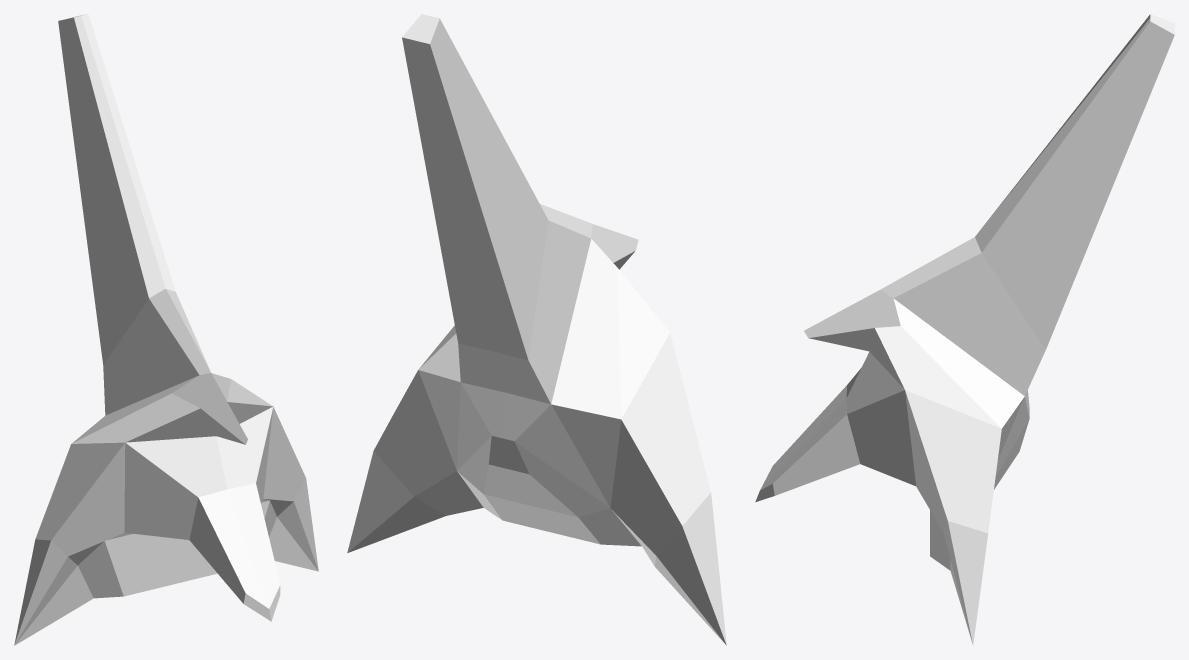
File: head_19.fbx
3 renders of one model, left to right at view 1: azimuth 30°, elevation 25°; view 2: azimuth 150°, elevation 25°; view 3: azimuth 270°, elevation 25°, orthographic. The views are drawn at different scales.
Visible parts, largest first — view 1: Cube.144; view 2: Cube.144; view 3: Cube.144.
Boxes of the visible parts, x1,y1,x2,y2 form: Cube.144: [14, 14, 318, 645]; Cube.144: [347, 14, 726, 645]; Cube.144: [755, 14, 1174, 645].
Bounding box in the file's own units: 54.72 × 91.06 × 62.86.
